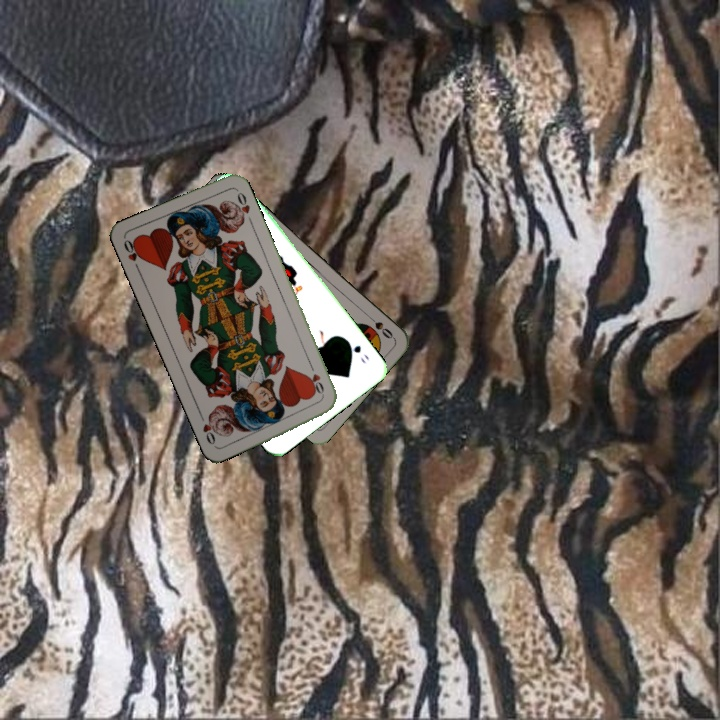GO: (342, 336, 372, 367)
HO: (119, 235, 144, 274), (306, 361, 327, 400)
SO: (363, 310, 396, 341)
